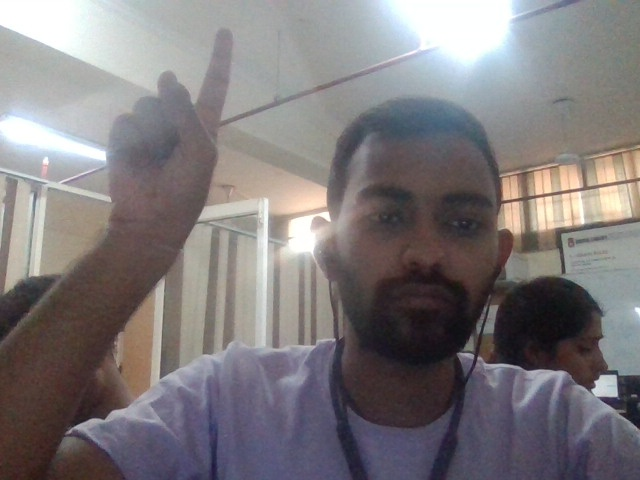Present: (103, 26, 235, 250)
